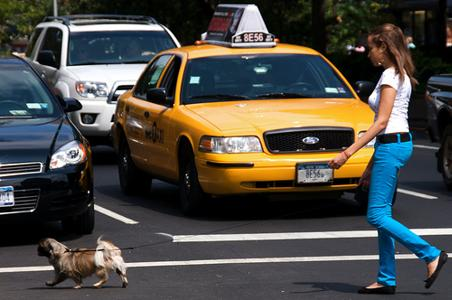person: (327, 26, 448, 294)
